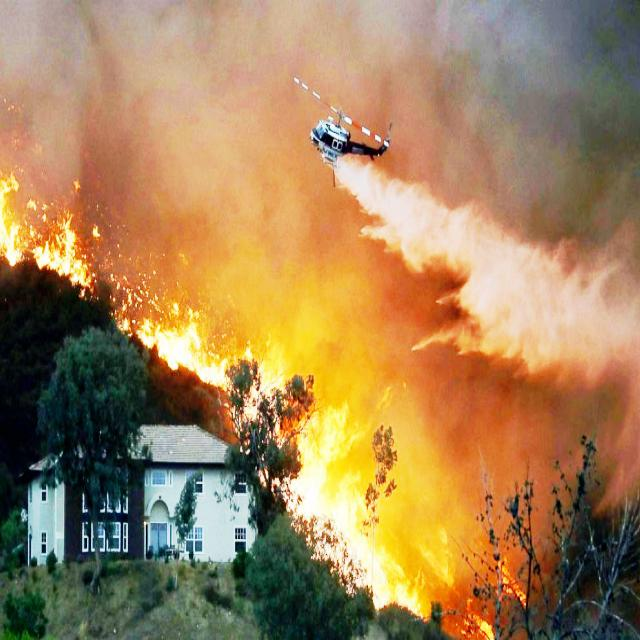api: (302, 393, 417, 592), (140, 300, 228, 386), (40, 206, 95, 300), (2, 170, 24, 274)
asap: (396, 1, 640, 471), (67, 1, 234, 233)
